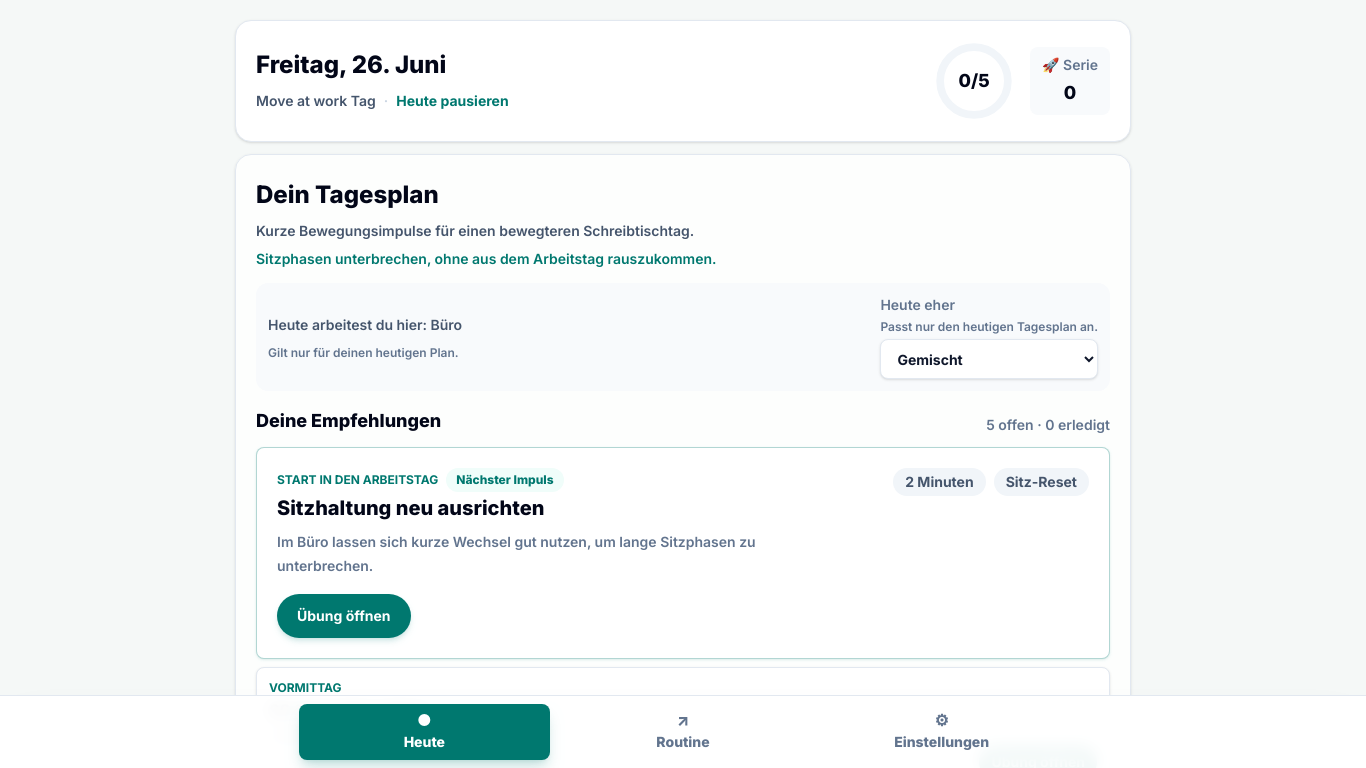
Test: App auth fallback › keeps the global header hidden on the Progress screen after onboarding
Click the button "↗ Routine" at point(683, 732), box [558,704,808,760]
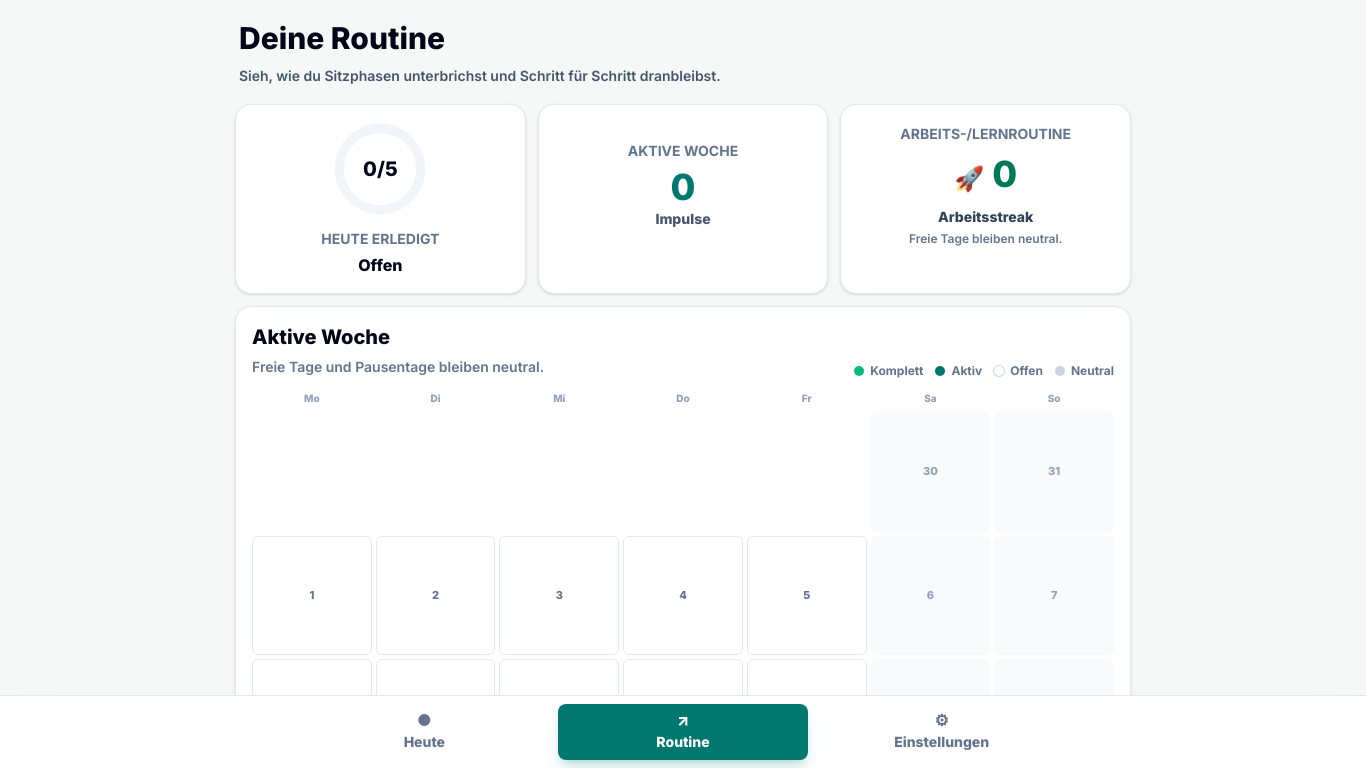
Now the text "Deine Routine" is shown, box [239,20,445,56]
